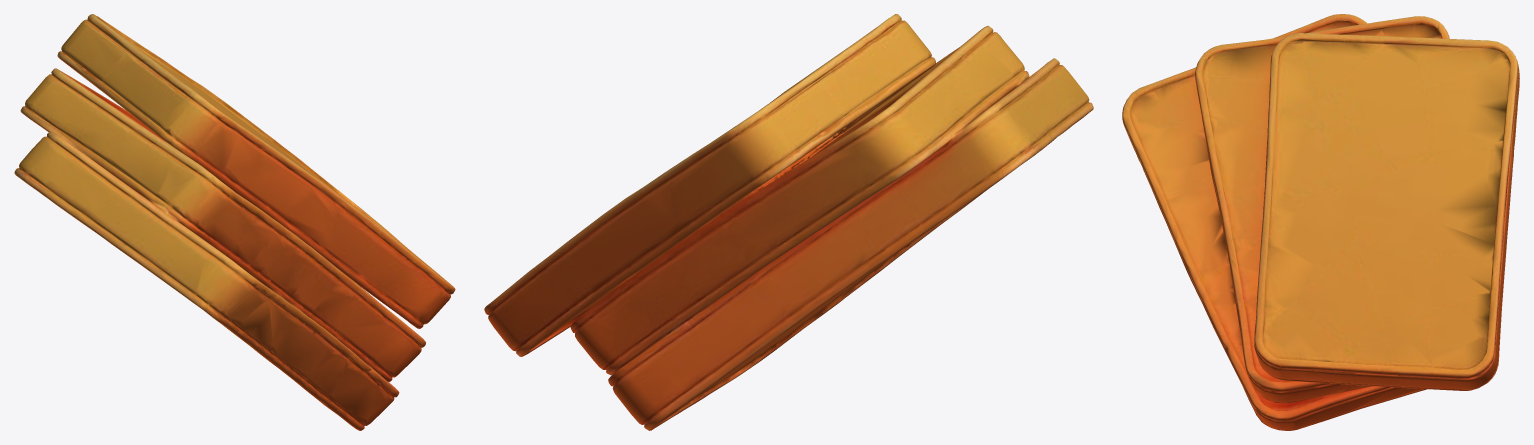
The model's file is ic-library.glb.
3 views of the same model, side by side, from view 1: azimuth 30°, elevation 25°; view 2: azimuth 150°, elevation 25°; view 3: azimuth 270°, elevation 25° (orthographic). The views are drawn at different scales.
Visible parts, largest first — view 1: tripo_node_f9afdb1f-8573-44a4-8b1e-a4f47fe3fa03; view 2: tripo_node_f9afdb1f-8573-44a4-8b1e-a4f47fe3fa03; view 3: tripo_node_f9afdb1f-8573-44a4-8b1e-a4f47fe3fa03.
Part boxes in pixels (x1,y1,x2,y2): tripo_node_f9afdb1f-8573-44a4-8b1e-a4f47fe3fa03: [14, 14, 455, 430]; tripo_node_f9afdb1f-8573-44a4-8b1e-a4f47fe3fa03: [484, 14, 1093, 430]; tripo_node_f9afdb1f-8573-44a4-8b1e-a4f47fe3fa03: [1122, 14, 1519, 430].
Bounding box in the file's own units: 1.18 × 0.9996 × 1.09.
1 material, 1 textured.
